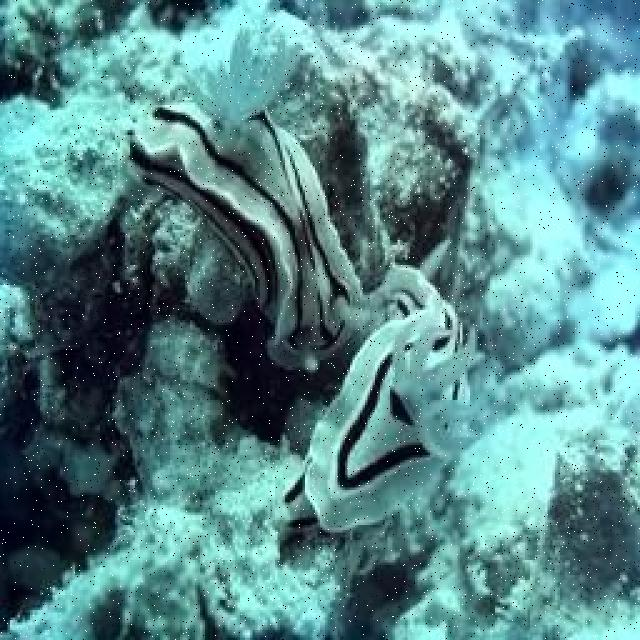fish: (114, 98, 491, 534)
